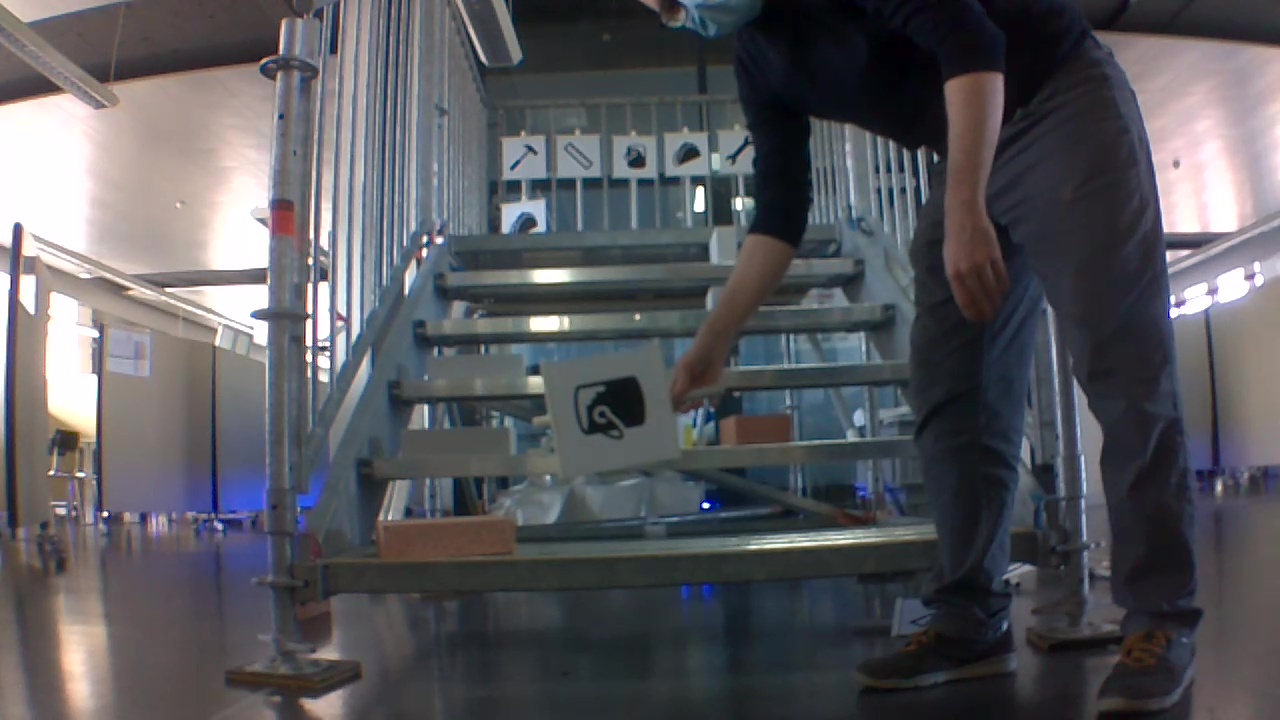brick: (378, 517, 515, 558), (402, 425, 514, 460), (426, 354, 525, 378), (721, 414, 794, 443), (710, 225, 736, 260)
bucket: (569, 370, 649, 442), (620, 140, 649, 171)
edge: (323, 529, 1040, 586)
hammer: (504, 140, 542, 175)
ruler: (561, 140, 595, 172)
taco: (668, 136, 702, 169), (505, 208, 539, 233)
